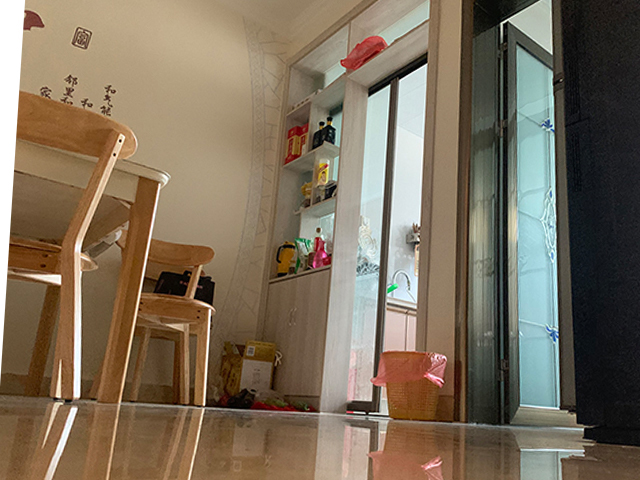cabinet: (262, 267, 354, 414)
stool: (10, 92, 139, 404), (120, 227, 216, 407)
table: (16, 138, 171, 406)
trashcan: (382, 350, 447, 421)
